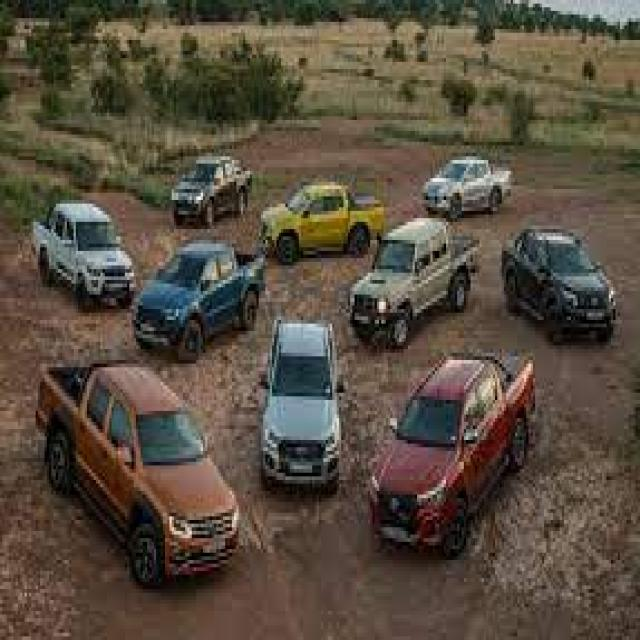Pickup Trucks: (36, 356, 241, 589), (370, 353, 544, 556), (350, 215, 480, 352), (134, 240, 265, 364), (259, 320, 350, 491), (504, 226, 620, 346), (36, 196, 136, 313), (261, 178, 386, 262), (172, 156, 254, 229), (421, 156, 513, 218)
